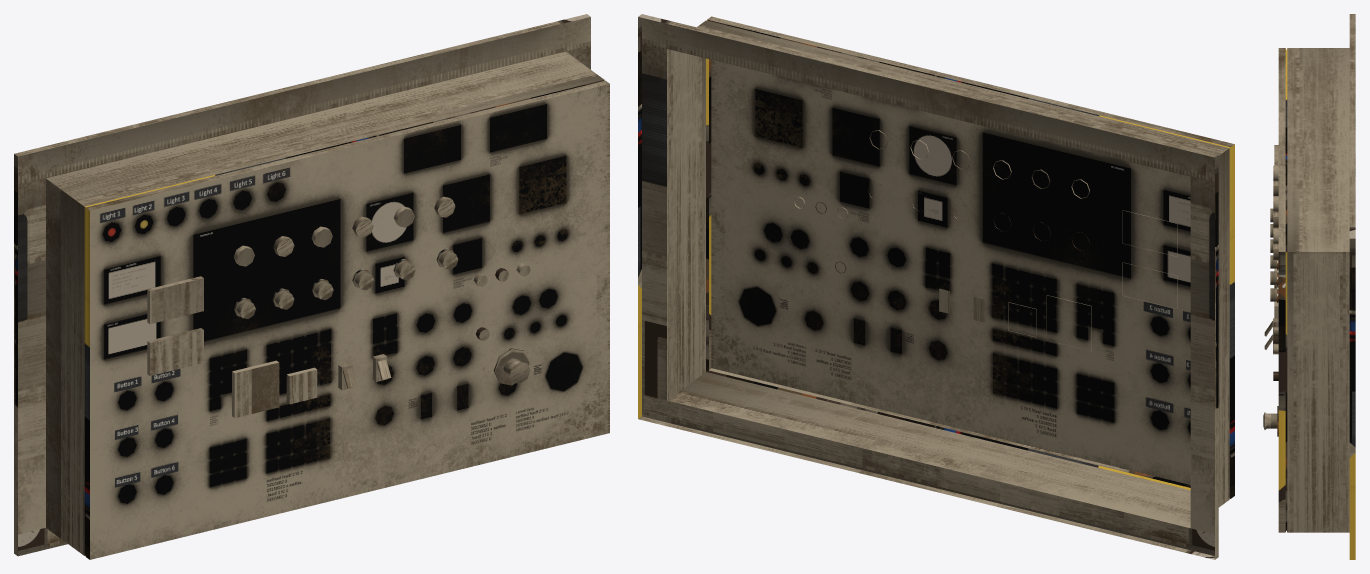
The model's file is LightPuzzle3.fbx.
3 views of the same model, side by side, from view 1: azimuth 30°, elevation 25°; view 2: azimuth 150°, elevation 25°; view 3: azimuth 270°, elevation 25° (orthographic). The views are drawn at different scales.
Visible parts, largest first — view 1: ControlPanel, Screen4, Screen2, Screen1, Emergencybutton, Screen3; view 2: ControlPanel; view 3: ControlPanel, Emergencybutton.
Boxes of the visible parts, x1,y1,x2,y2 form: ControlPanel: (14, 14, 609, 559); Screen4: (232, 360, 279, 417); Screen2: (147, 276, 203, 324); Screen1: (147, 328, 203, 375); Emergencybutton: (494, 348, 530, 385); Screen3: (286, 367, 317, 404); ControlPanel: (638, 14, 1234, 559); ControlPanel: (1278, 14, 1355, 559); Emergencybutton: (1263, 406, 1278, 436).
Bounding box in the file's own units: 160 × 106 × 27.76.
